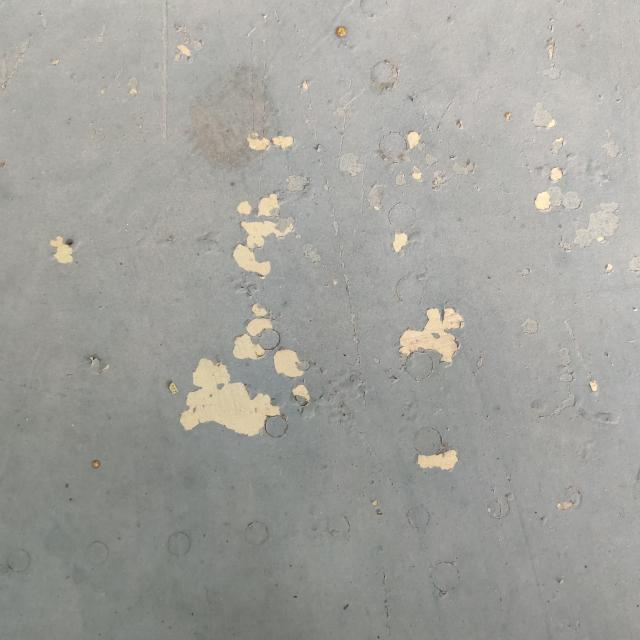paint-off: (164, 288, 322, 457), (220, 182, 311, 280), (390, 290, 476, 373), (405, 429, 474, 484), (241, 113, 303, 169), (40, 224, 90, 279)
